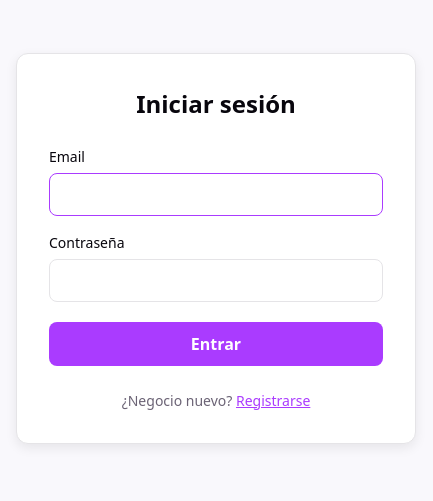
Test: too_many_requests se muestra en español, no como código
This screenshot has width=433, height=501.
Type "ana@test.com" into the field labelled "Email".
click(216, 194); type("ana@test.com")  # box x1=49 y1=172 x2=383 y2=216
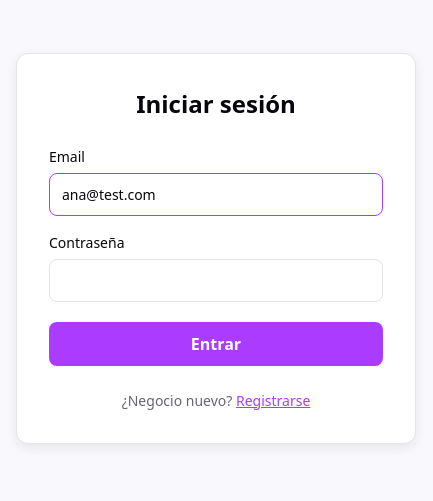
Type "clave-incorrecta" into the password field labelled "Contraseña".
click(216, 280); type("clave-incorrecta")  # box x1=49 y1=258 x2=383 y2=302
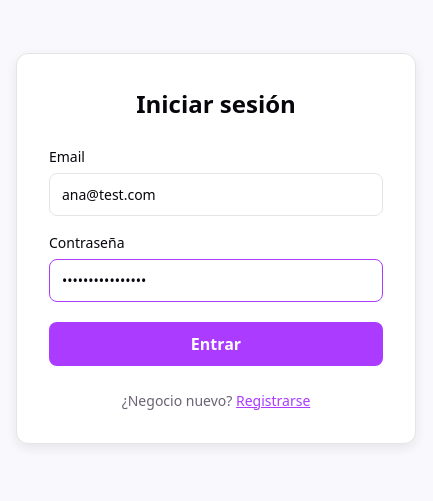
Click the button "Entrar".
click(216, 344)  # box x1=49 y1=322 x2=383 y2=366
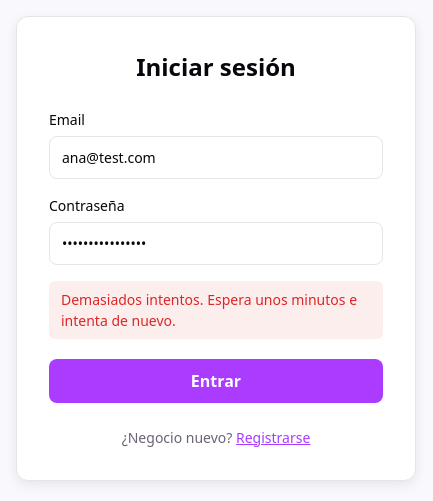
Expected: the text "Demasiados intentos. Espera unos minutos e intenta de nuevo." is shown, x1=49 y1=280 x2=383 y2=338
